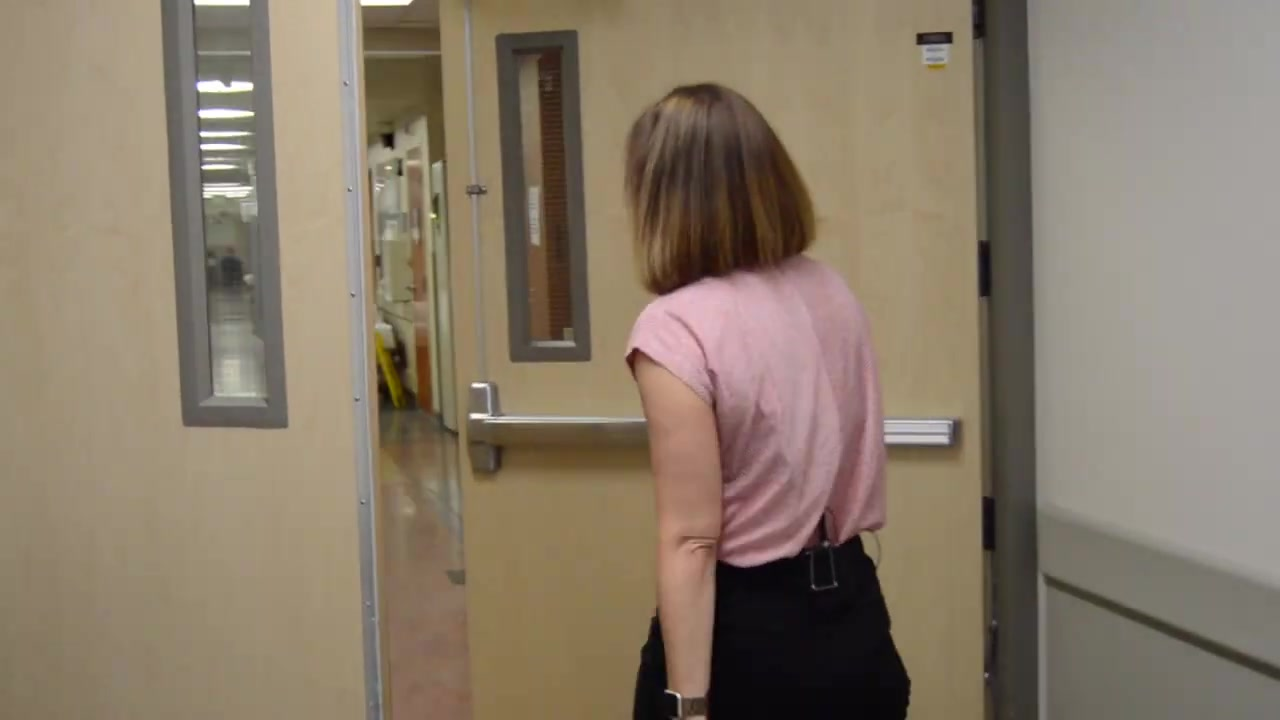person: (625, 82, 911, 720)
push_latch: (458, 379, 957, 480)
